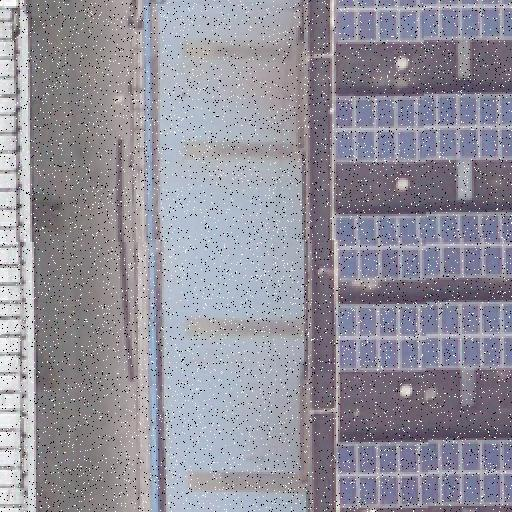solar-panel: (336, 302, 512, 370), (332, 95, 512, 161), (336, 439, 512, 505), (336, 213, 512, 275), (332, 0, 512, 40)
